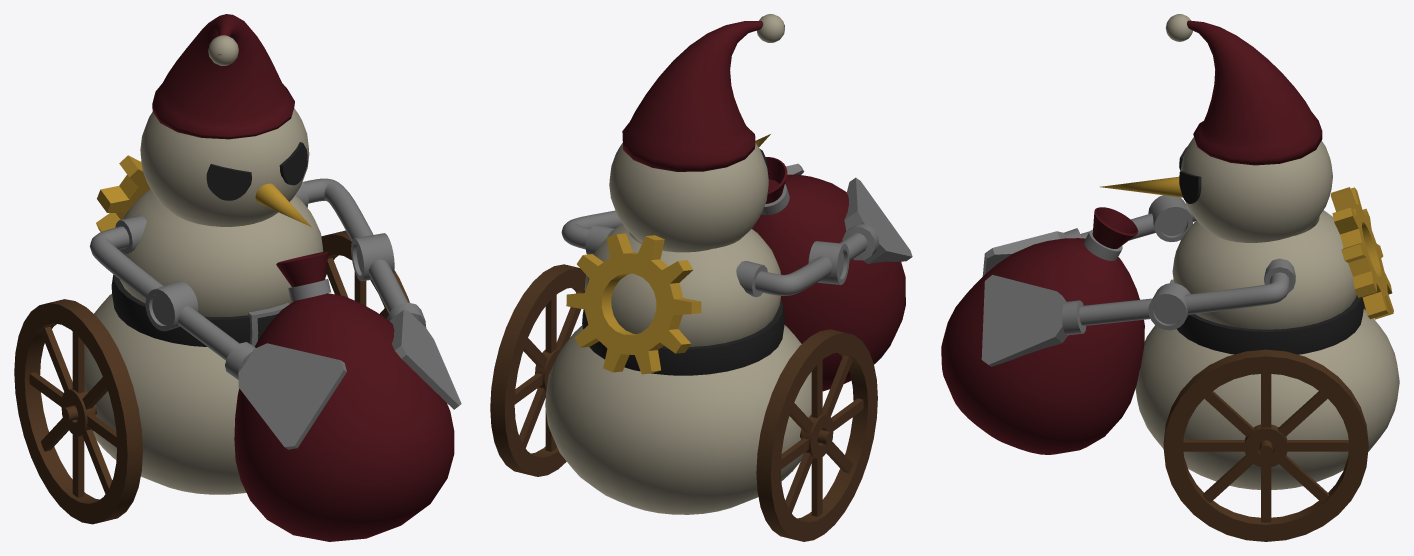
The model's file is Evocador.fbx.
3 renders of one model, left to right at view 1: azimuth 30°, elevation 25°; view 2: azimuth 150°, elevation 25°; view 3: azimuth 270°, elevation 25°, orthographic. The views are drawn at different scales.
Visible parts, largest first — view 1: Saco, Rodas.002, Base, Corpo, Chapeu, Cabeça, Maos.001, Braços, Cinto, Juntas.001, Olhos.002, Engrenagem.001 (+2 smaller); view 2: Base, Rodas.002, Saco, Chapeu, Cabeça, Corpo, Engrenagem.001, Braços, Cinto, Maos.001, Juntas.001, Pompom; view 3: Saco, Base, Rodas.002, Corpo, Chapeu, Cabeça, Maos.001, Braços, Cinto, Engrenagem.001, Juntas.001, Cenoura (+2 smaller).
Part boxes in pixels (x1,y1,x2,y2): Saco: (234,251,454,541); Rodas.002: (14,230,409,524); Base: (84,294,246,494); Corpo: (119,189,323,316); Chapeu: (152,14,294,139); Cabeça: (140,108,309,226); Maos.001: (238,310,461,449); Braços: (89,178,426,379); Cinto: (111,274,324,346); Juntas.001: (145,233,394,331); Olhos.002: (206,142,307,200); Engrenagem.001: (96,155,150,231); Base: (545,325,811,514); Rodas.002: (490,264,877,541); Saco: (752,157,905,391); Chapeu: (622,21,784,171); Cabeça: (609,142,768,252); Corpo: (584,223,780,346); Engrenagem.001: (566,233,701,374); Braços: (561,210,879,297); Cinto: (582,299,784,375); Maos.001: (786,163,912,263); Juntas.001: (808,241,849,284); Pompom: (757,14,784,42); Saco: (941,207,1144,454); Base: (1135,309,1399,489); Rodas.002: (1163,305,1368,541); Corpo: (1172,210,1356,329); Chapeu: (1187,20,1322,165); Cabeça: (1180,137,1332,242); Maos.001: (981,231,1067,366); Braços: (1062,203,1295,335); Cinto: (1170,279,1364,354); Engrenagem.001: (1331,187,1393,319); Juntas.001: (1148,195,1192,330); Cenoura: (1100,176,1182,197).
Bounding box in the file's own units: 169 × 257 × 242.
